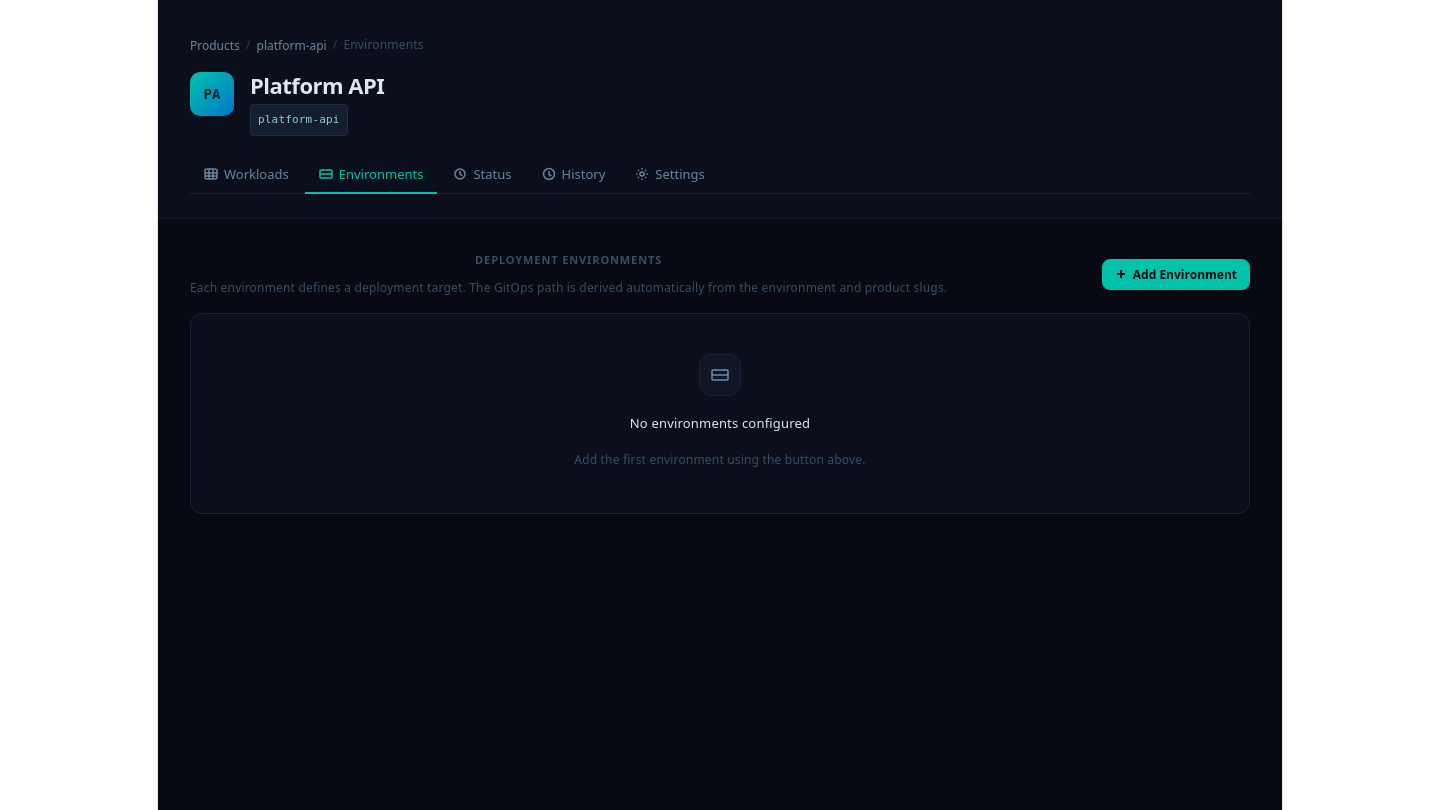
it: EnvironmentsPage — create flow (admin) › shows inline form when "Add Environment" is clicked
The image size is (1440, 810).
Click the button "Add Environment".
click(1176, 274)  # box [1102,259,1250,290]
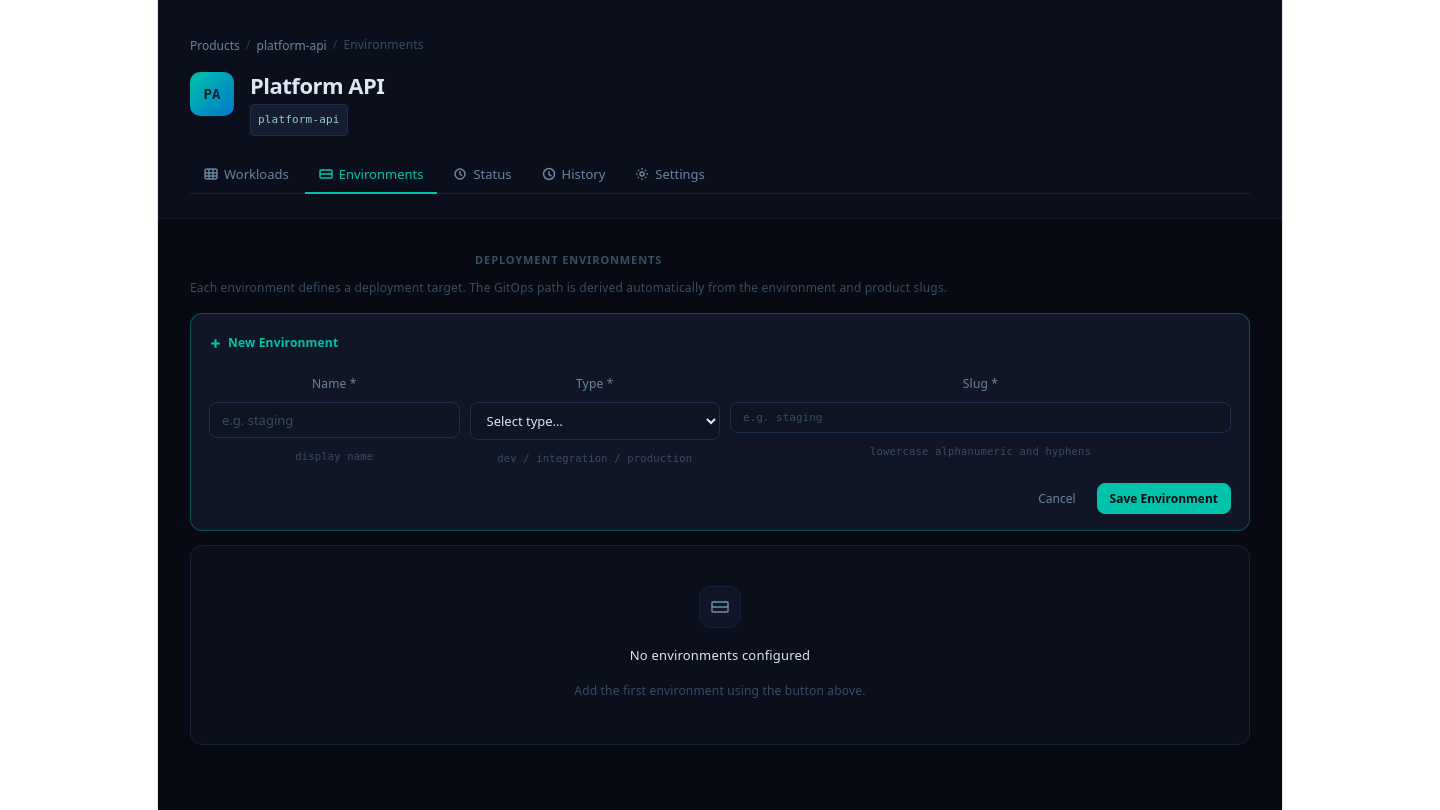
Result: the text "New Environment" is shown at [209,334,338,352]
Result: the field labelled "Name *" is shown at [209,402,460,438]
Result: the dropdown labelled "Type *" is shown at [470,402,720,440]
